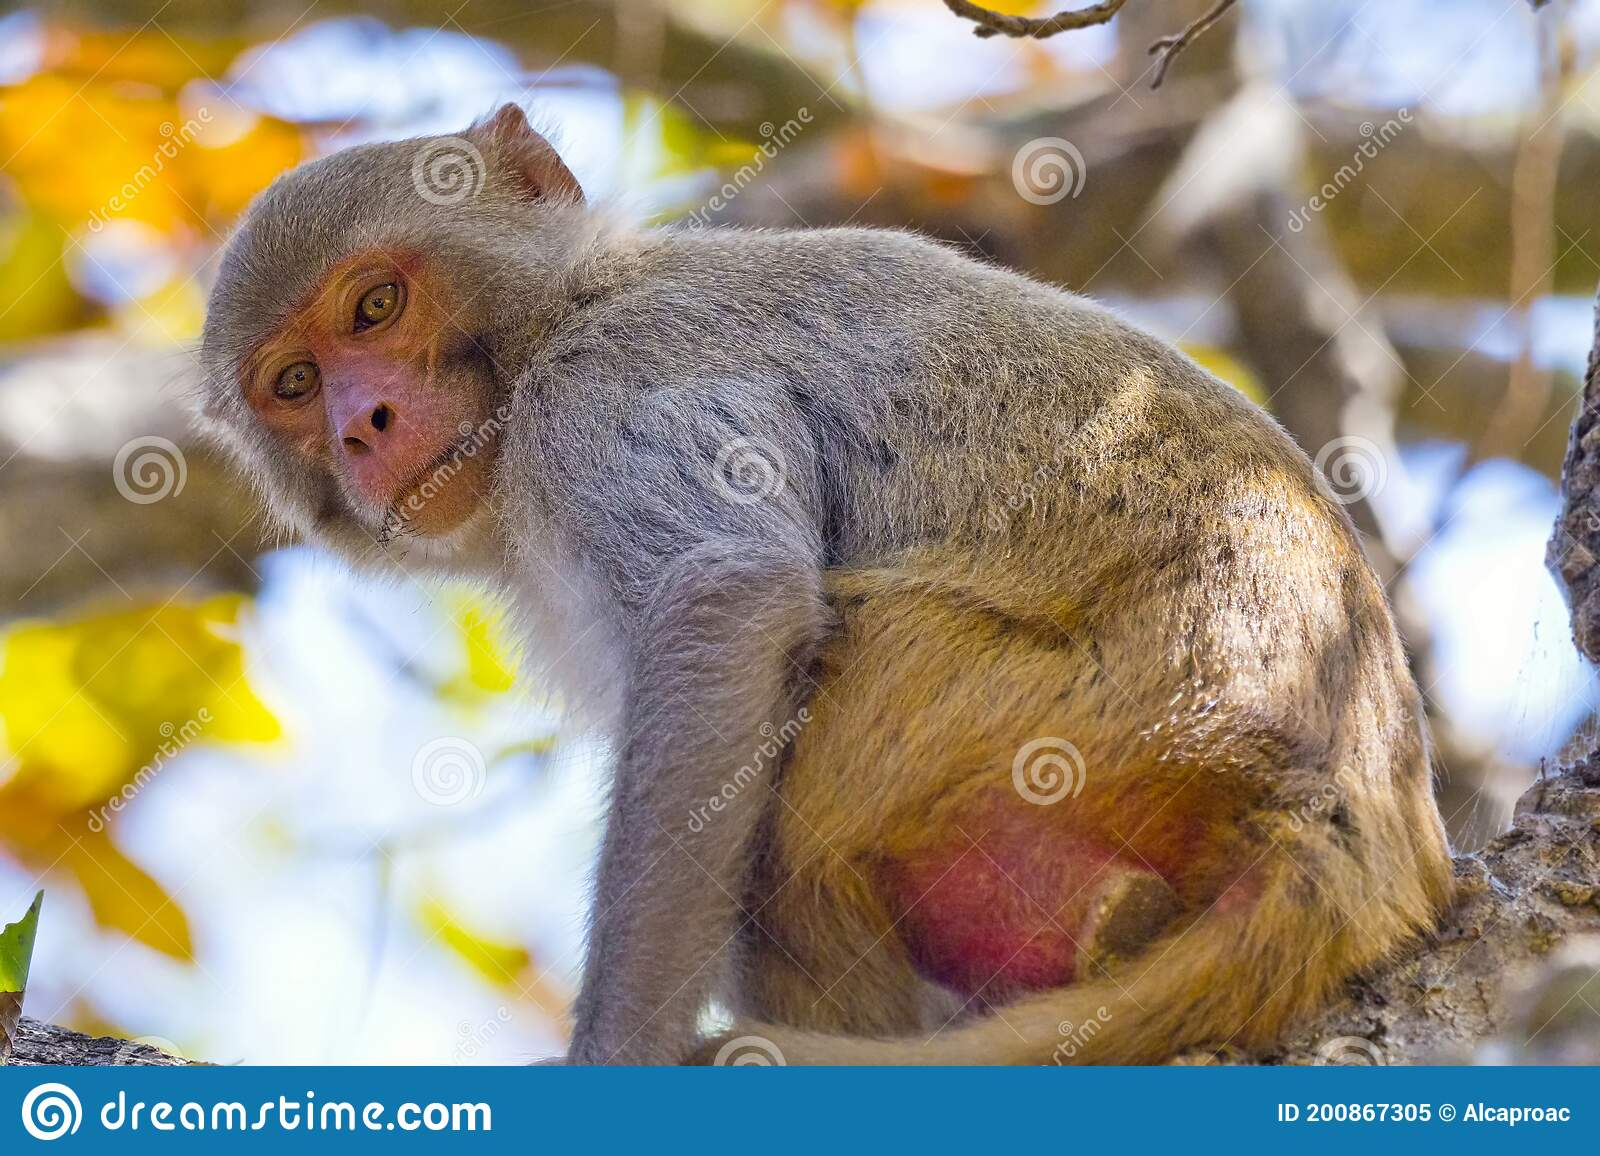monkey: (144, 72, 1506, 1059)
